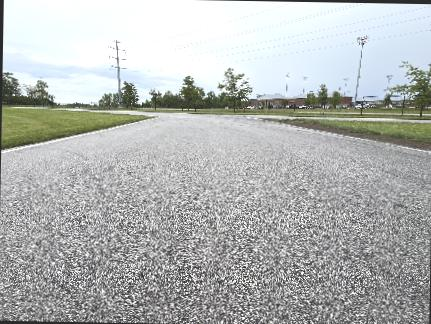Grass: (1, 108, 149, 149), (274, 119, 430, 143)
Lane: (0, 114, 430, 323)
